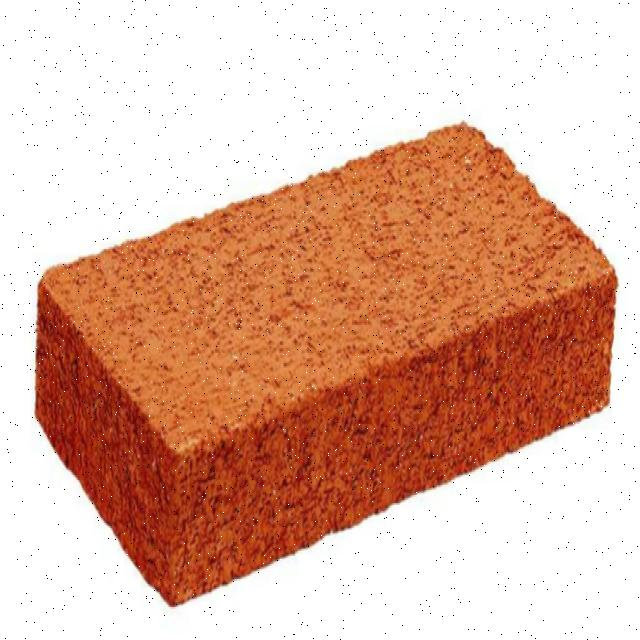bricks: (31, 118, 618, 611)
